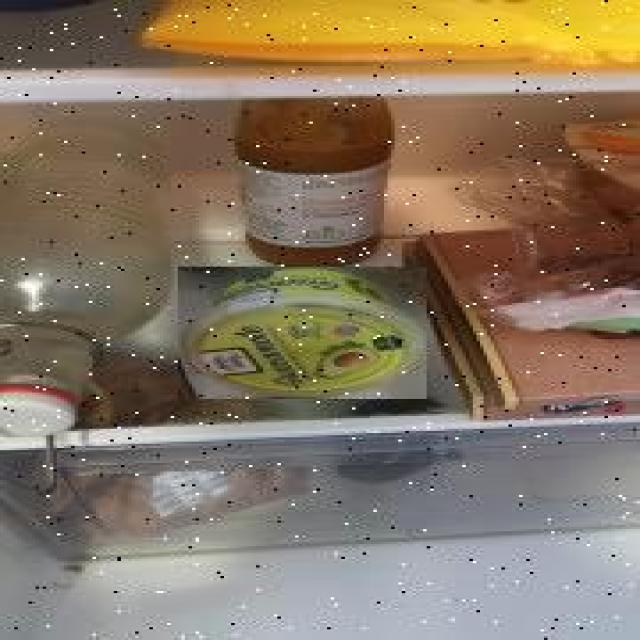guacamole: (178, 267, 426, 399)
